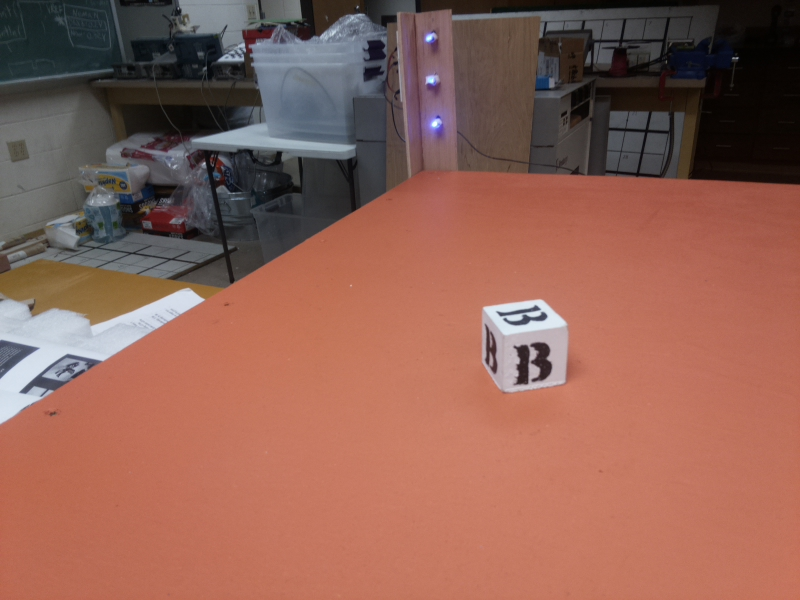blockB: (480, 296, 572, 396)
corner: (383, 5, 474, 180)
